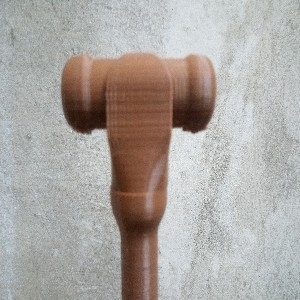palu: (61, 50, 217, 300)
